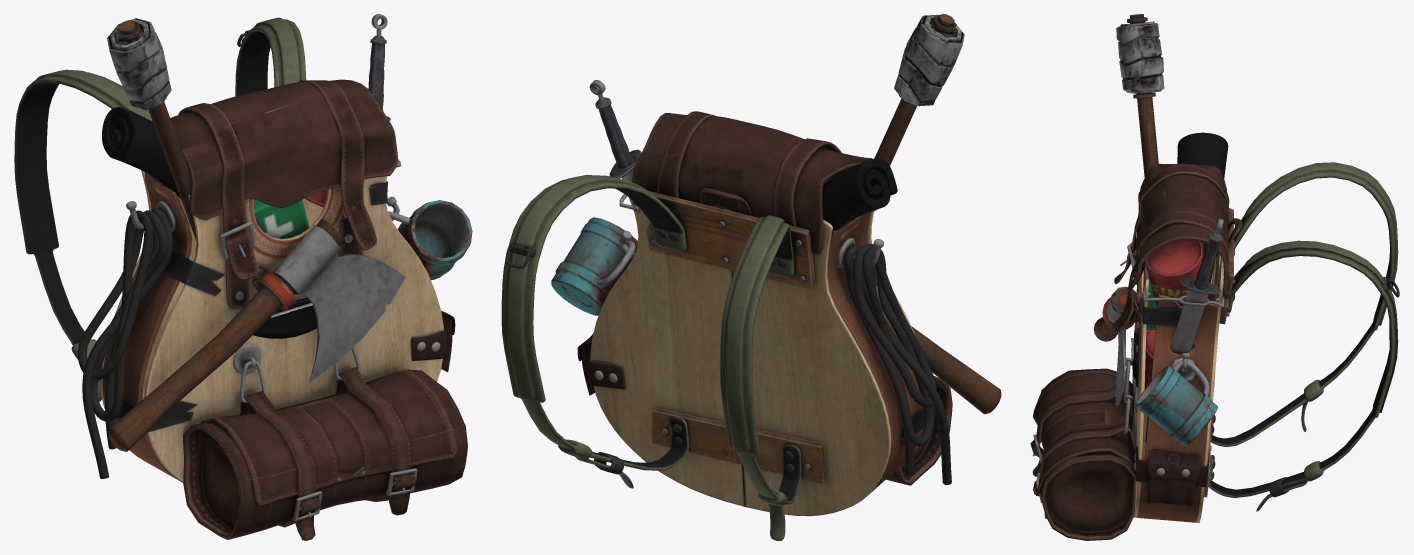
Rendered from backpack.gltf.
3 views of the same model, side by side, from view 1: azimuth 30°, elevation 25°; view 2: azimuth 150°, elevation 25°; view 3: azimuth 270°, elevation 25° (orthographic). The views are drawn at different scales.
Visible parts, largest first — view 1: Plane.009; view 2: Plane.009; view 3: Plane.009.
Boxes of the visible parts, x1,y1,x2,y2 form: Plane.009: (14, 14, 472, 540); Plane.009: (501, 14, 1001, 540); Plane.009: (1030, 14, 1399, 540).
Size of the model in its own units: 4.16 by 5.13 by 4.08.
1 material, 1 textured.
